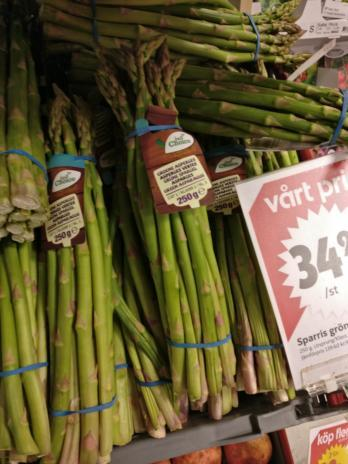Asparagus: (4, 0, 114, 464), (116, 0, 348, 147), (118, 151, 236, 425), (226, 270, 288, 409)
